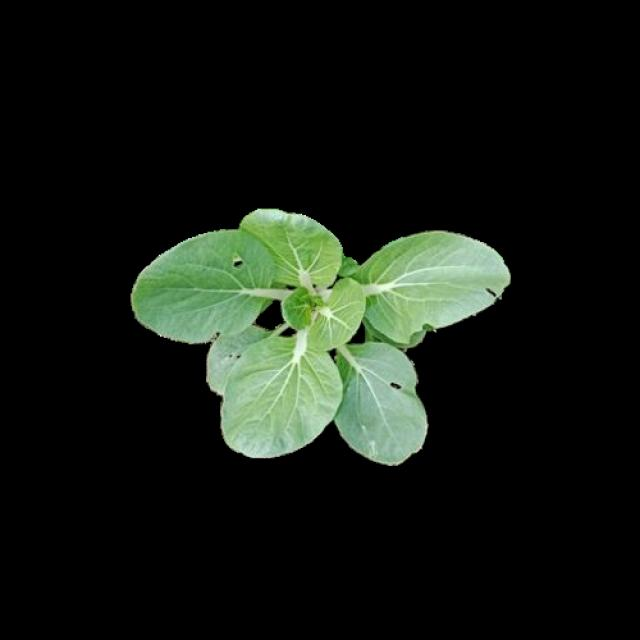not-mature: (130, 210, 510, 465)
unhealthy: (130, 232, 276, 343), (364, 229, 514, 334), (338, 343, 427, 466), (204, 329, 276, 394)
